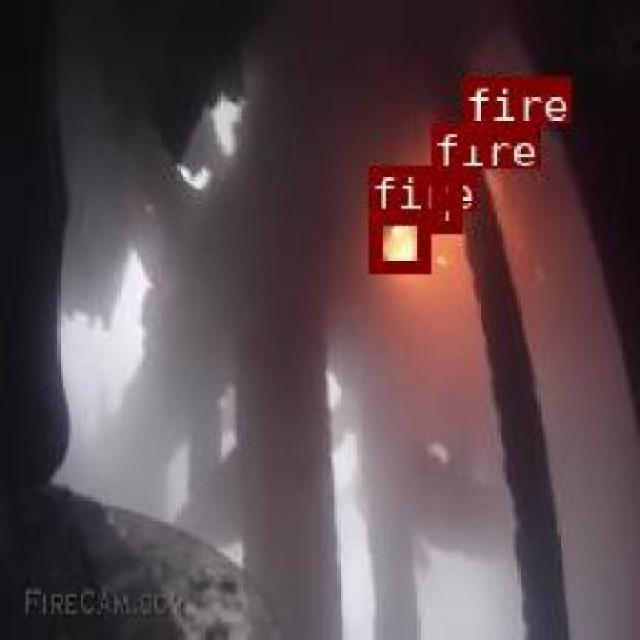Fire: (368, 210, 430, 272), (429, 167, 460, 230), (462, 119, 489, 141)
